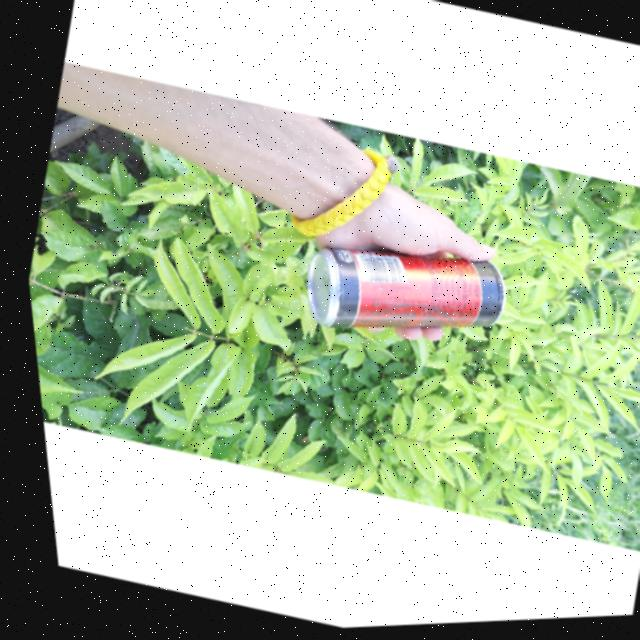Hell Classic: (288, 224, 507, 372)
